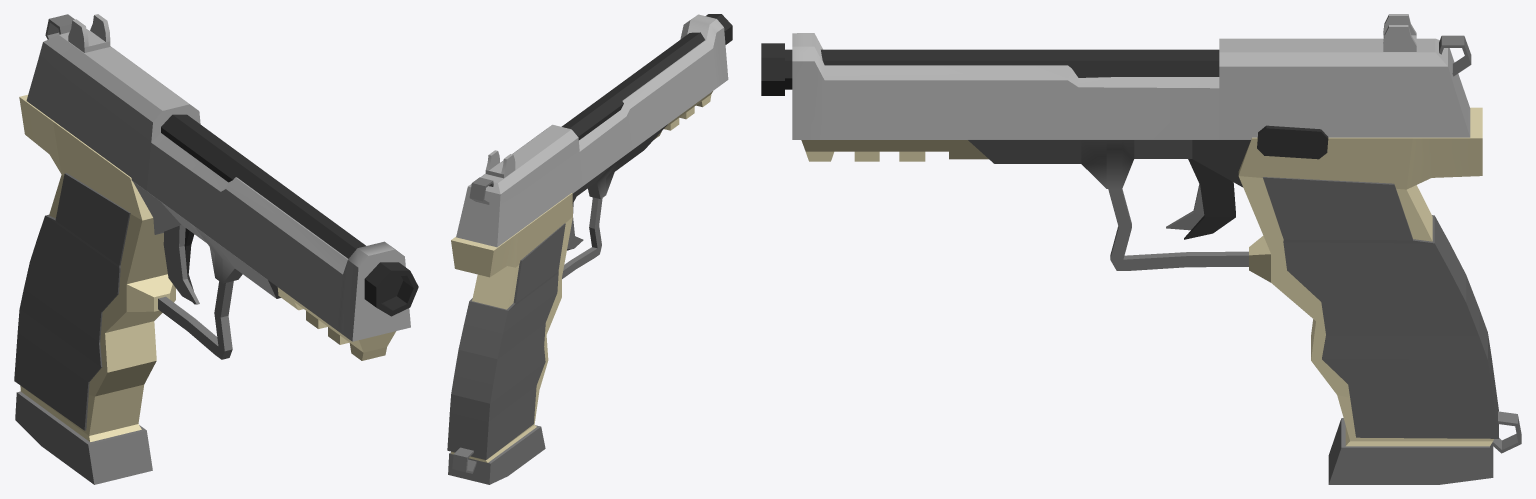
File: Handgun.fbx
3 views of the same model, side by side, from view 1: azimuth 30°, elevation 25°; view 2: azimuth 150°, elevation 25°; view 3: azimuth 270°, elevation 25° (orthographic). The views are drawn at different scales.
Visible parts, largest first — view 1: Slide, Grip, Magwell, Barrel, Magazine, Frame_Top, Guard_Trigger, Rail, Trigger_Safety, Sights_Rear, Ring_Top; view 2: Slide, Grip, Magwell, Barrel, Magazine, Frame_Top, Guard_Trigger, Sights_Rear, Ring_Bottom, Ring_Top, Rail; view 3: Slide, Grip, Magwell, Barrel, Frame_Top, Magazine, Guard_Trigger, Rail, Trigger, Safety, Sights_Rear.
Part boxes in pixels (x1,y1,x2,y2): Slide: [26, 29, 410, 341]; Grip: [14, 173, 130, 430]; Magwell: [19, 95, 175, 442]; Barrel: [161, 114, 418, 316]; Magazine: [15, 391, 152, 484]; Frame_Top: [132, 180, 280, 298]; Guard_Trigger: [158, 281, 233, 359]; Rail: [277, 287, 396, 360]; Trigger_Safety: [163, 225, 199, 304]; Sights_Rear: [68, 14, 110, 52]; Ring_Top: [45, 14, 74, 39]; Slide: [456, 14, 728, 247]; Grip: [447, 223, 565, 459]; Magwell: [451, 193, 572, 462]; Barrel: [561, 14, 732, 140]; Magazine: [448, 425, 545, 484]; Frame_Top: [572, 124, 667, 203]; Guard_Trigger: [562, 197, 602, 278]; Sights_Rear: [485, 150, 515, 178]; Ring_Bottom: [452, 447, 476, 473]; Ring_Top: [469, 177, 493, 204]; Rail: [654, 91, 712, 139]; Slide: [792, 33, 1470, 139]; Grip: [1262, 177, 1498, 438]; Magwell: [1238, 107, 1493, 446]; Barrel: [761, 43, 1219, 95]; Frame_Top: [968, 139, 1250, 188]; Magazine: [1328, 418, 1493, 484]; Guard_Trigger: [1108, 189, 1248, 270]; Rail: [801, 140, 988, 161]; Trigger: [1184, 159, 1235, 239]; Safety: [1257, 125, 1328, 159]; Sights_Rear: [1383, 14, 1416, 51].
Bounding box in the file's own units: 1.09 × 7.06 × 10.82.
